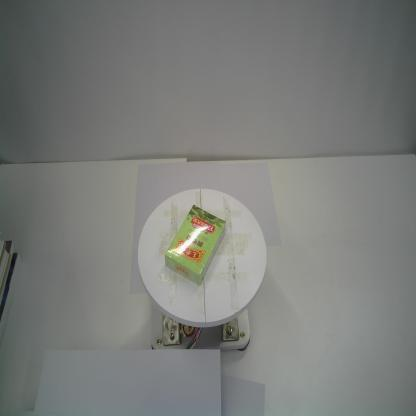Candy: (164, 204, 226, 286)
